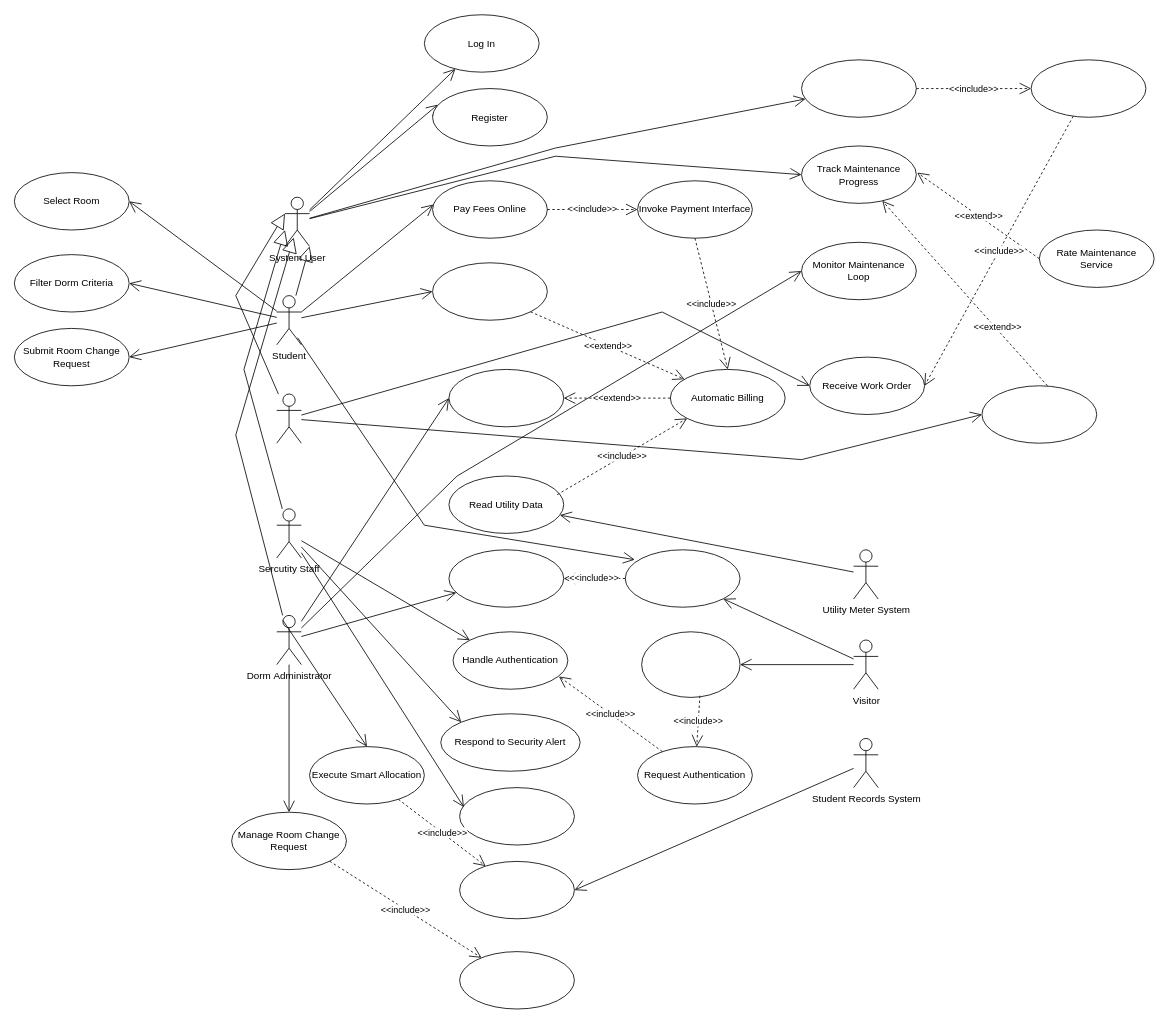
The diagram is 1169 pixels wide and 1023 high, and some of its shapes have lost their labels. Here are the shapes that lost their labels. From the top down, the box of each, then its label:
(801, 59, 916, 117): Submit Maintenance Request
(1030, 59, 1146, 117): Intelligent Order Dispatch
(432, 262, 547, 320): Receive Overdue Alert
(276, 393, 301, 443): Maintenance Staff
(448, 369, 564, 427): Manage Bills
(981, 385, 1097, 443): Update Maintenance Status
(448, 549, 564, 607): Handle Visitor Registration
(624, 549, 740, 607): Submit Visitor Registration
(641, 631, 740, 697): Use Access Control
(459, 787, 574, 845): Manage Security Reports
(459, 861, 574, 919): Fetch Student Profile
(459, 951, 574, 1009): Approve Room Change Request
